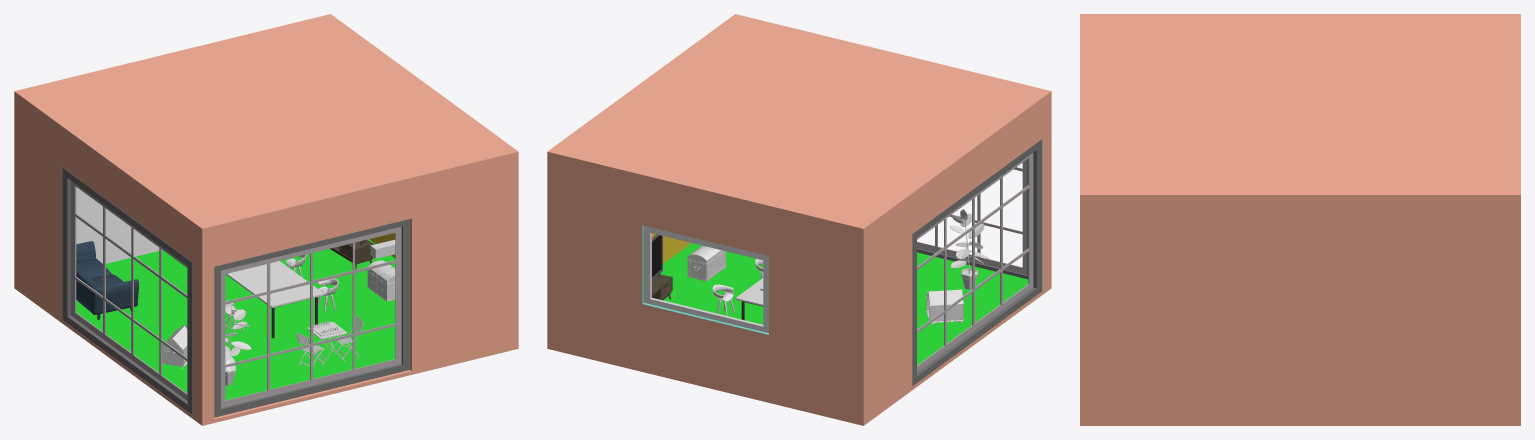
Rendered from ent.glb.
3 renders of one model, left to right at view 1: azimuth 30°, elevation 25°; view 2: azimuth 150°, elevation 25°; view 3: azimuth 270°, elevation 25°, orthographic. The views are drawn at different scales.
Visible parts, largest first — view 1: kuca, podOkvir, okvir.001, Couch_Medium1, ploca, RubberFigPottedPlant_mesh.001, Drawer_2, zidovi, treasure_chest_bottom; view 2: kuca, podOkvir, okvir.001, Cube.001, platno, RubberFigPottedPlant_mesh.001, treasure_chest_bottom; view 3: kuca.
Boxes of the visible parts, x1,y1,x2,y2 form: kuca: (14,14,518,425); podOkvir: (71,181,401,407); okvir.001: (62,168,410,417); Couch_Medium1: (76,241,138,319); ploca: (225,261,324,307); RubberFigPottedPlant_mesh.001: (225,300,251,371); Drawer_2: (330,239,374,269); zidovi: (162,325,187,366); treasure_chest_bottom: (367,271,395,301); kuca: (547,14,1051,425); podOkvir: (917,153,1033,372); okvir.001: (912,139,1041,385); Cube.001: (643,225,768,332); platno: (927,289,963,321); RubberFigPottedPlant_mesh.001: (950,209,988,270); treasure_chest_bottom: (687,251,725,281); kuca: (1080,14,1520,425).
Size of the model in its own units: 8.4 by 5 by 8.65.
